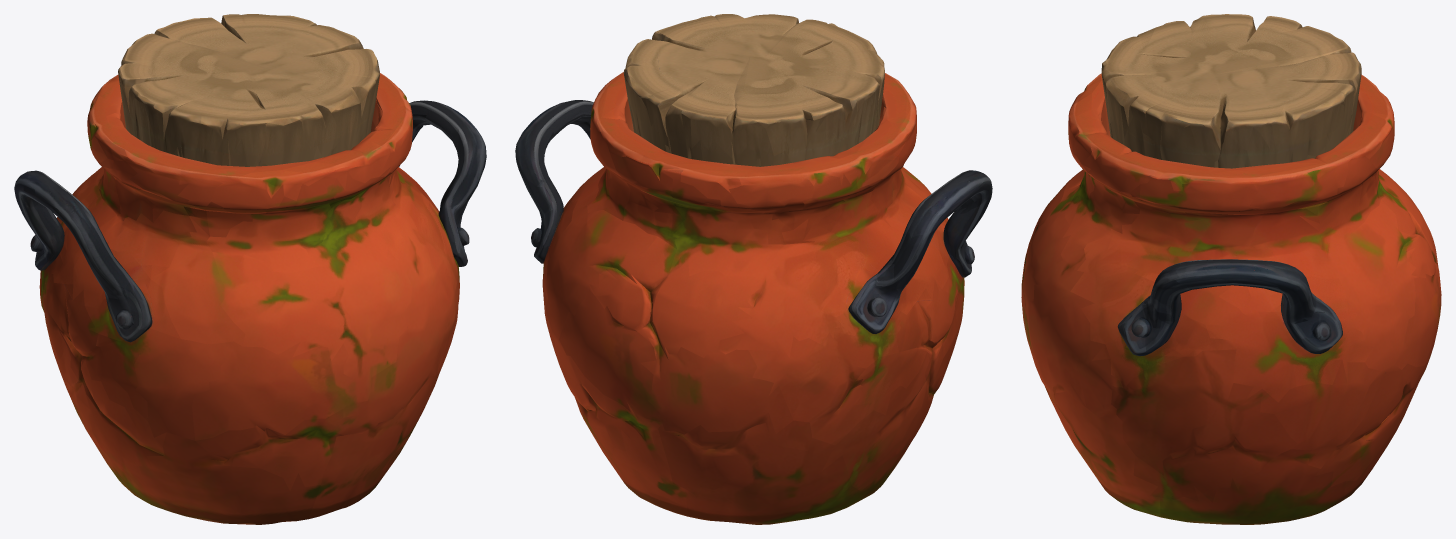
Rendered from pot_v2.glb.
3 views of the same model, side by side, from view 1: azimuth 30°, elevation 25°; view 2: azimuth 150°, elevation 25°; view 3: azimuth 270°, elevation 25° (orthographic).
Bounding box in the file's own units: 1.9 × 1.72 × 1.62.
Materials: 1 (1 with a texture image).
